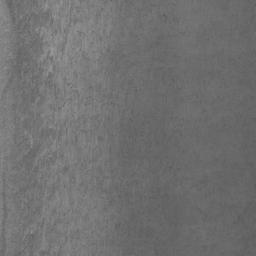Silk spot: (0, 0, 186, 256), (155, 156, 184, 185), (192, 176, 214, 197), (233, 202, 254, 224)
